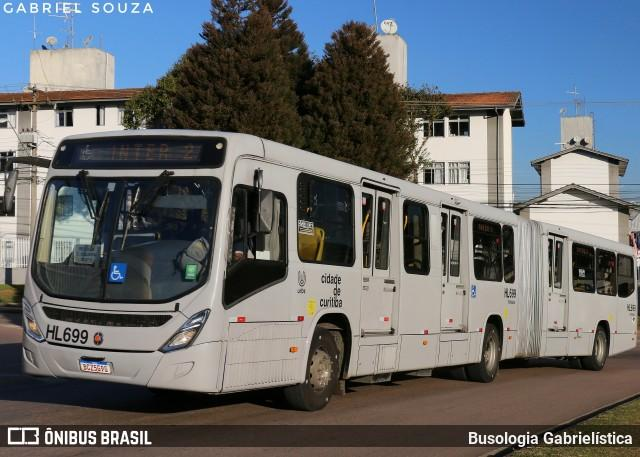INTER2: (106, 138, 204, 162)
